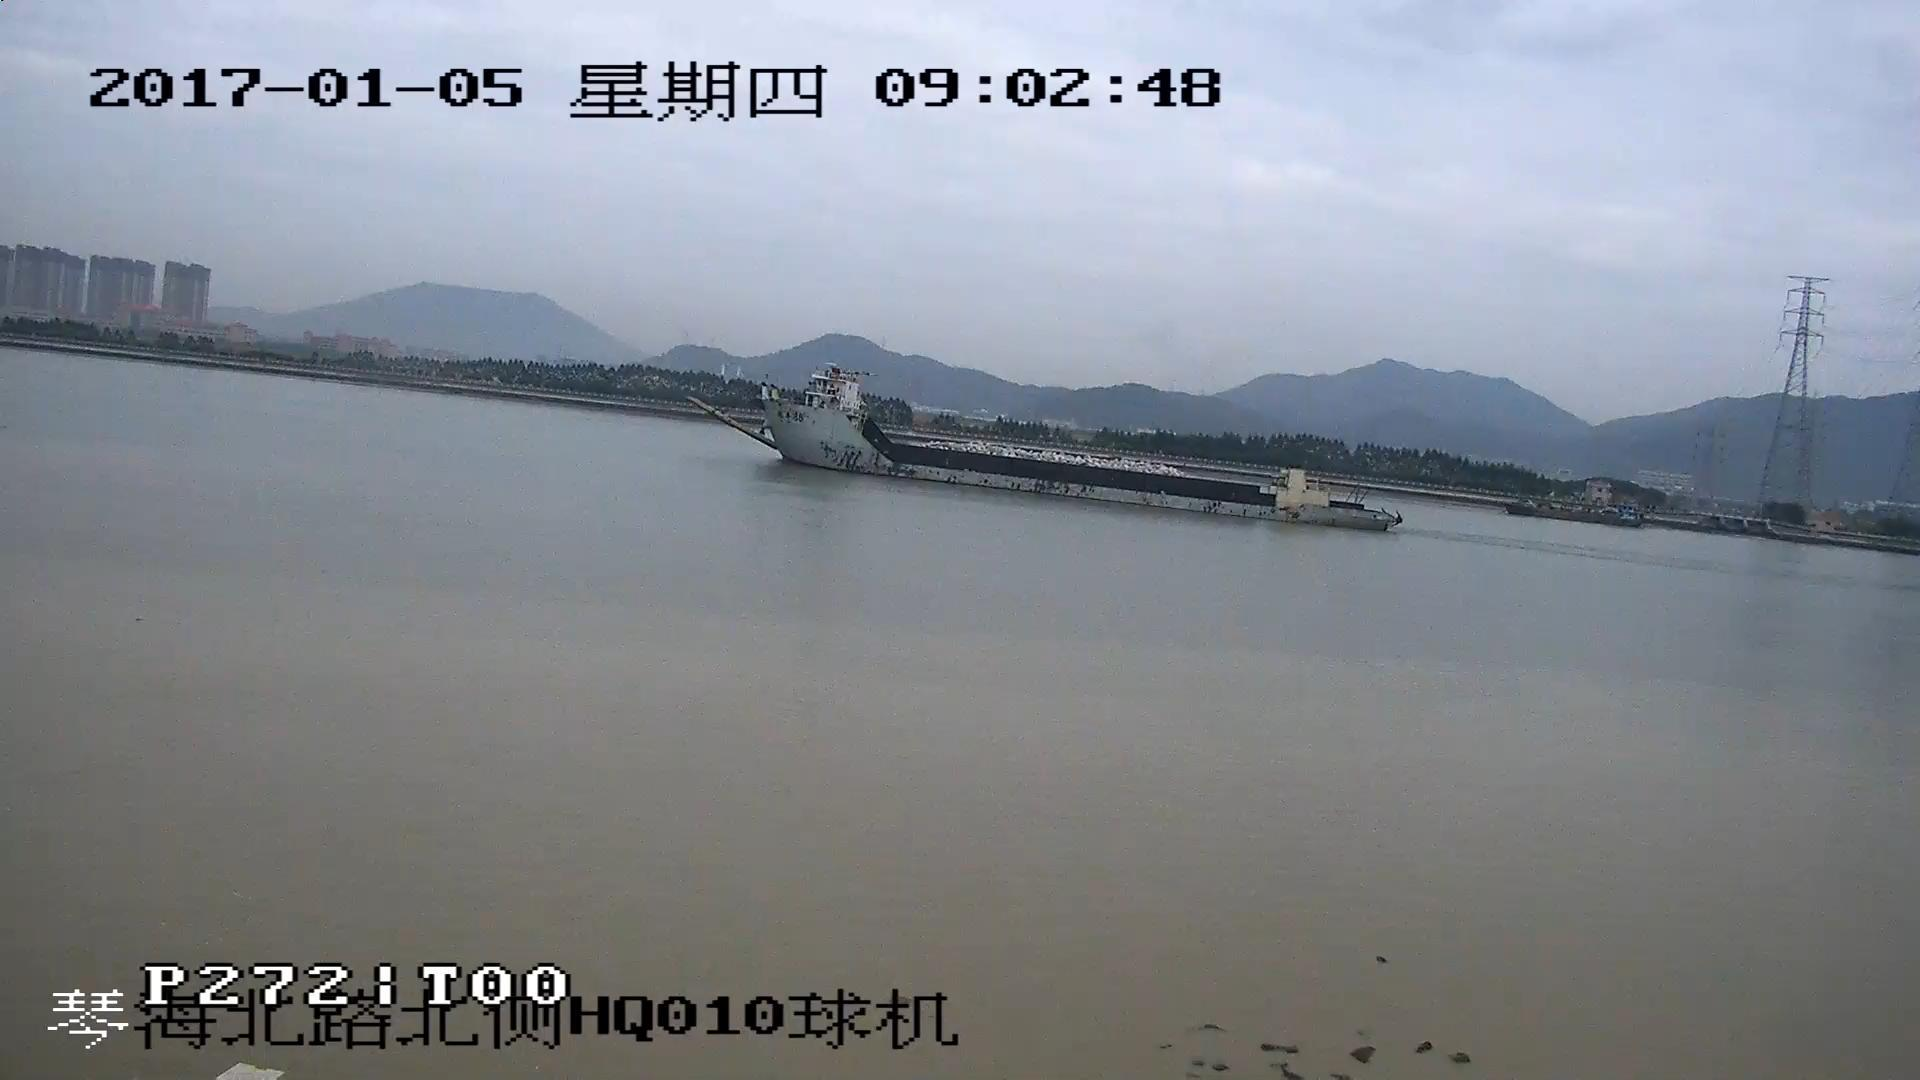Ship: (705, 373, 1395, 537)
